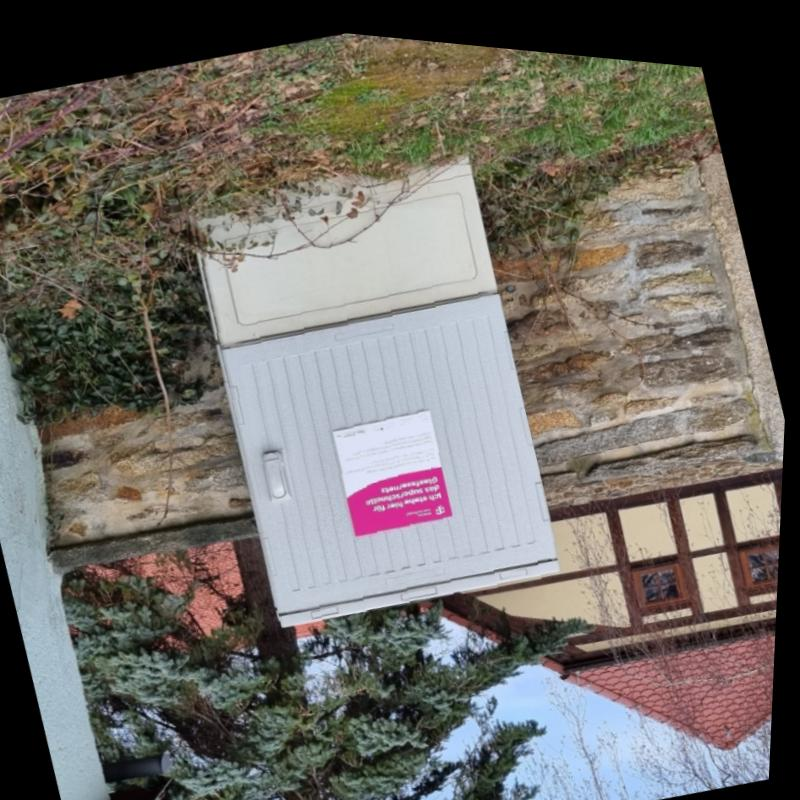NT-Gehause: (170, 123, 583, 642)
Steaker: (326, 388, 468, 538)
